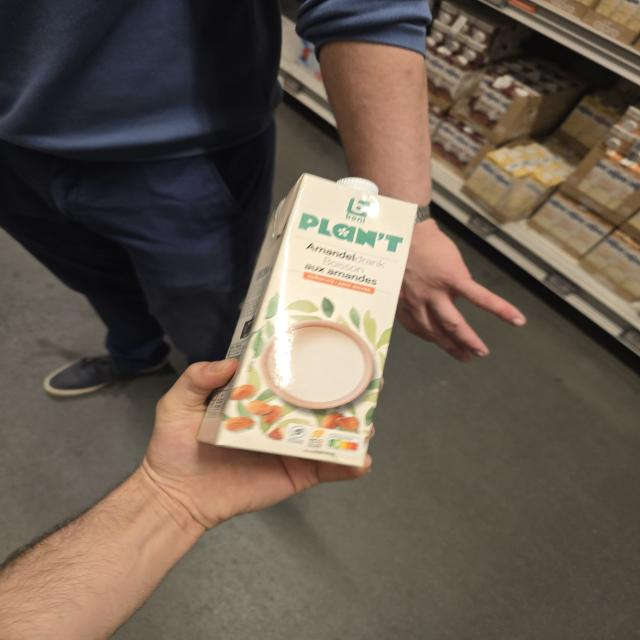Milk: (196, 174, 418, 467)
